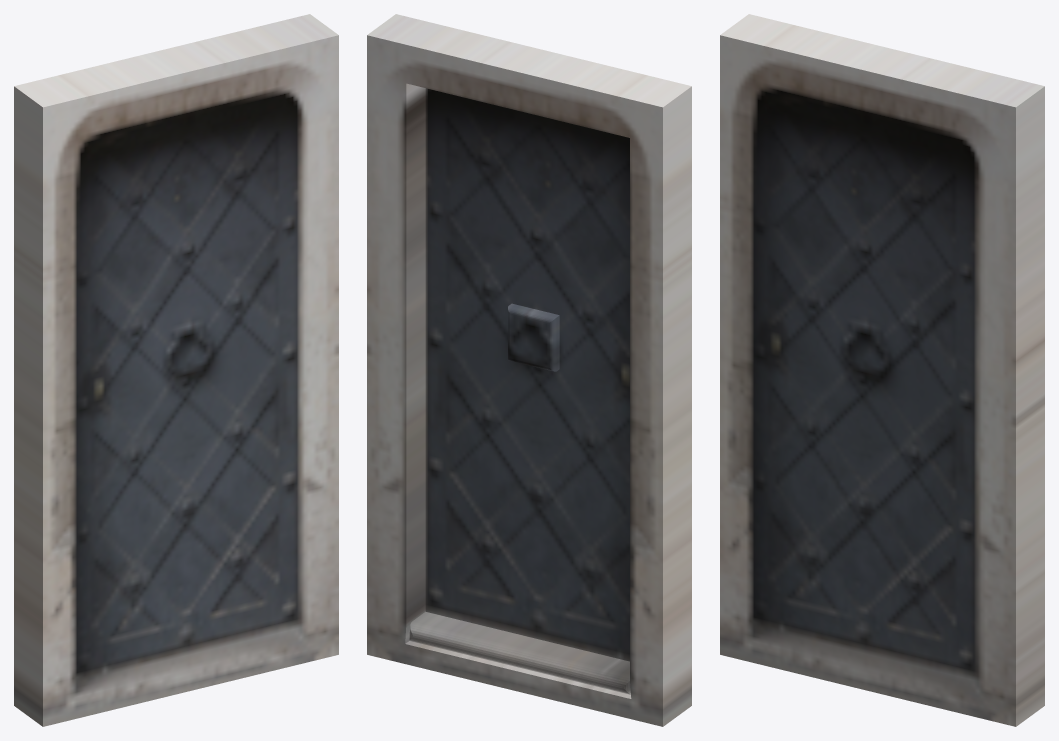
The model's file is dungeonDoor01.glb.
The picture shows the model from 3 angles, left to right: view 1: azimuth 30°, elevation 25°; view 2: azimuth 150°, elevation 25°; view 3: azimuth 330°, elevation 25°; orthographic projection.
Parts seen in each view (by area): view 1: dungeonDoor01; view 2: dungeonDoor01; view 3: dungeonDoor01.
Boxes of the visible parts, left/top/right/bottom form: dungeonDoor01: left=14, top=14, right=338, bottom=726; dungeonDoor01: left=367, top=14, right=691, bottom=726; dungeonDoor01: left=720, top=14, right=1044, bottom=726.
Bounding box in the file's own units: 1.22 × 2.44 × 0.2072.
1 material, 1 textured.
